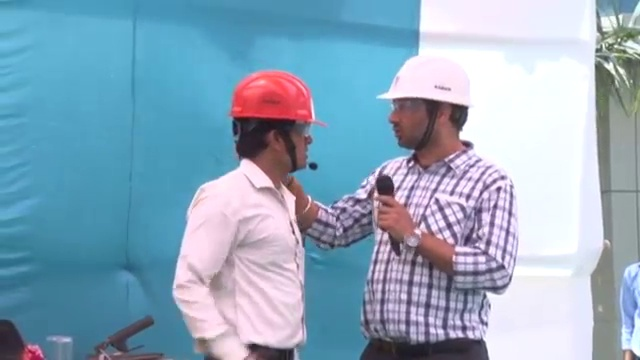helmet: (227, 68, 328, 129), (374, 54, 477, 109)
helmet_on: (226, 69, 328, 178), (373, 53, 476, 150)
person: (296, 52, 519, 360), (171, 69, 327, 360)
